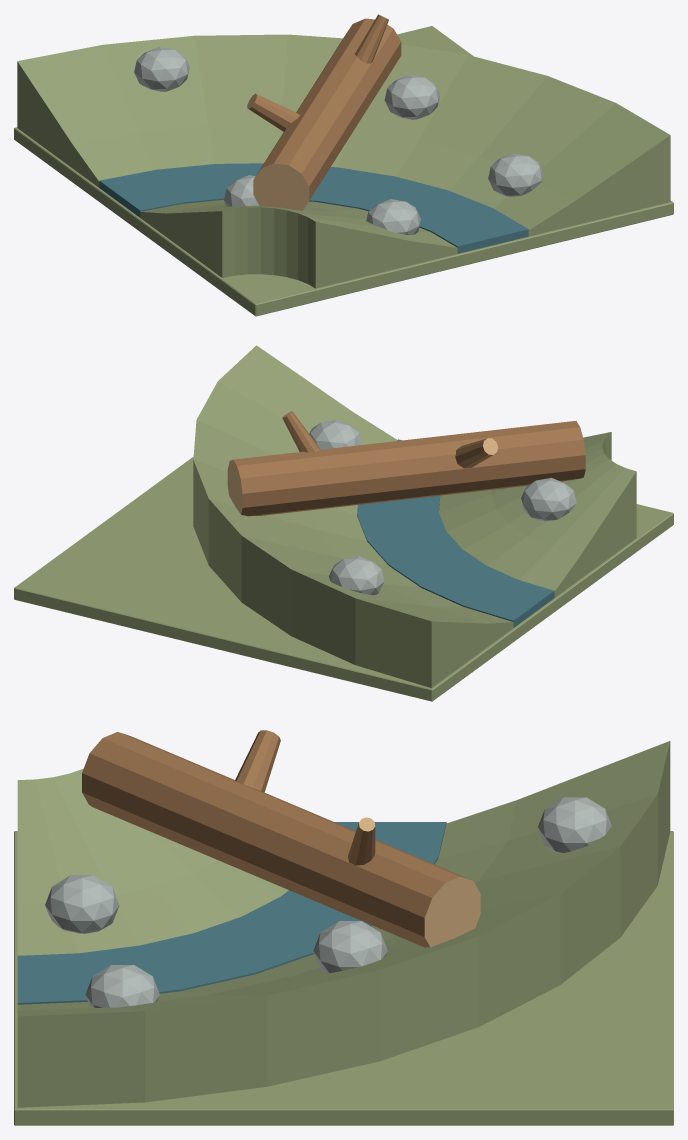
3 views of the same model, one above another, from view 1: azimuth 30°, elevation 25°; view 2: azimuth 150°, elevation 25°; view 3: azimuth 270°, elevation 25° (orthographic). The views are drawn at different scales.
Parts seen in each view (by area): view 1: GroundAndNature, WaterSurface_Runtime; view 2: GroundAndNature, WaterSurface_Runtime; view 3: GroundAndNature, WaterSurface_Runtime.
Boxes of the visible parts, x1,y1,x2,y2 form: GroundAndNature: (14, 14, 673, 316); WaterSurface_Runtime: (99, 163, 528, 253); GroundAndNature: (14, 345, 673, 701); WaterSurface_Runtime: (357, 439, 554, 627); GroundAndNature: (14, 730, 673, 1125); WaterSurface_Runtime: (17, 822, 446, 1004).
Bounding box in the file's own units: 3.54 × 1.18 × 3.54.
